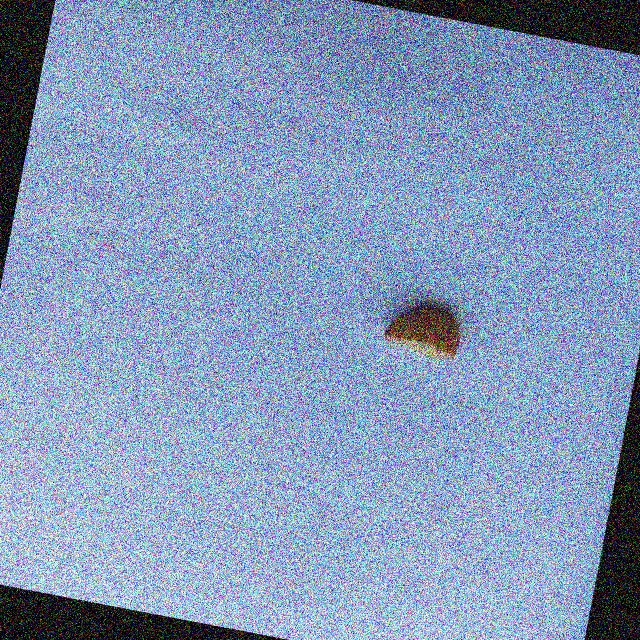grade4: (372, 290, 473, 368)
